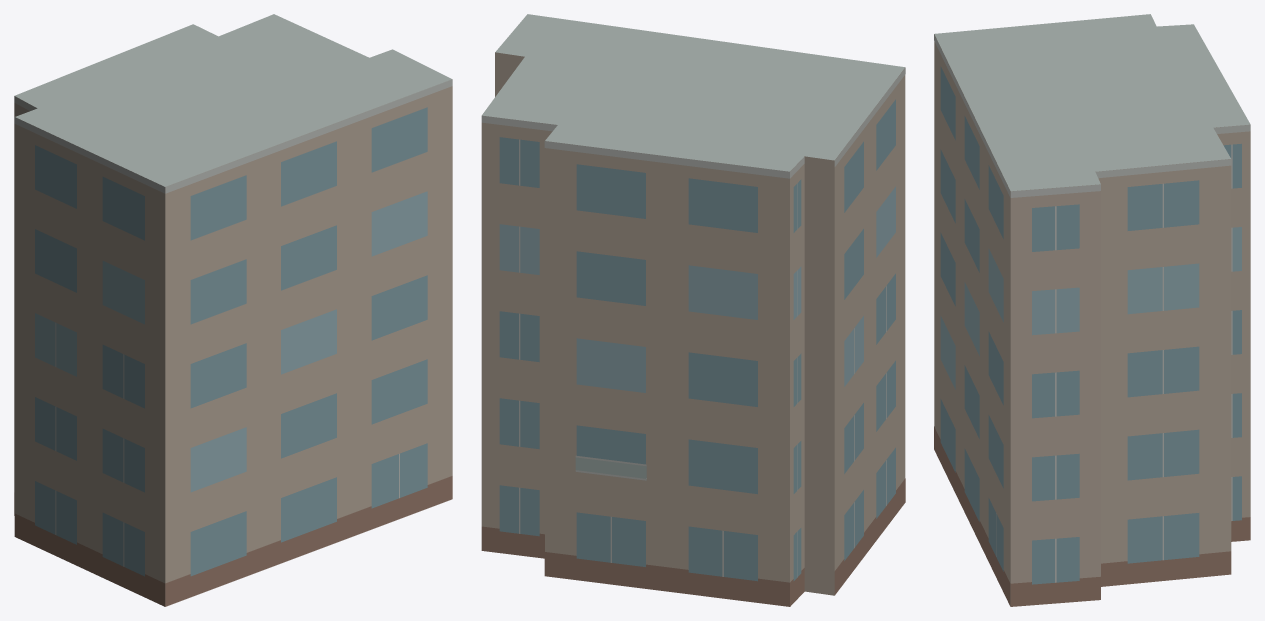
File: survey-upis-32867140.glb
The picture shows the model from 3 angles, left to right: view 1: azimuth 30°, elevation 25°; view 2: azimuth 150°, elevation 25°; view 3: azimuth 270°, elevation 25°; orthographic projection. The views are drawn at different scales.
Visible parts, largest first — view 1: survey-upis-32867140.tmp; view 2: survey-upis-32867140.tmp; view 3: survey-upis-32867140.tmp.
Boxes of the visible parts, x1,y1,x2,y2 form: survey-upis-32867140.tmp: [14, 14, 452, 606]; survey-upis-32867140.tmp: [481, 14, 905, 606]; survey-upis-32867140.tmp: [934, 14, 1250, 606].
Bounding box in the file's own units: 13.78 × 15.05 × 10.4.
